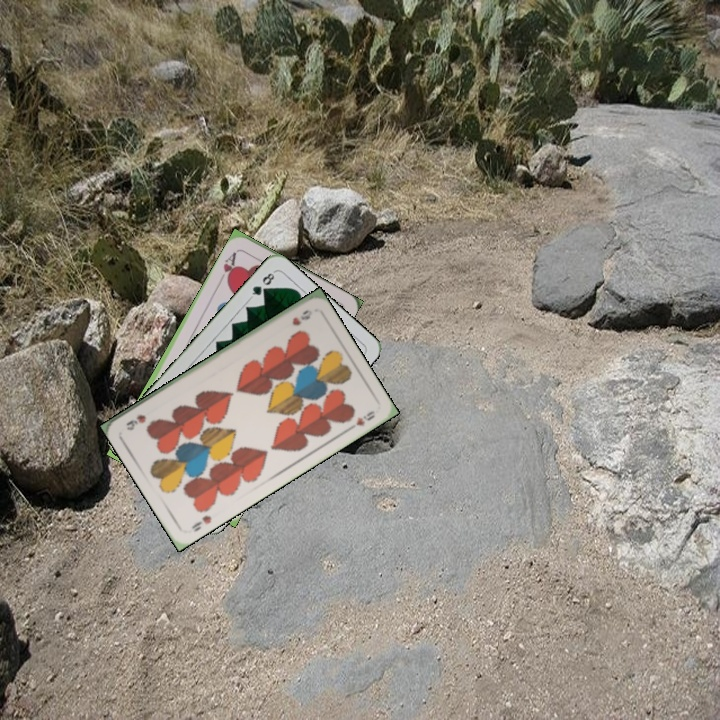G8: (247, 267, 278, 301)
H9: (288, 305, 315, 328), (187, 511, 214, 534)
HA: (219, 247, 241, 286)
